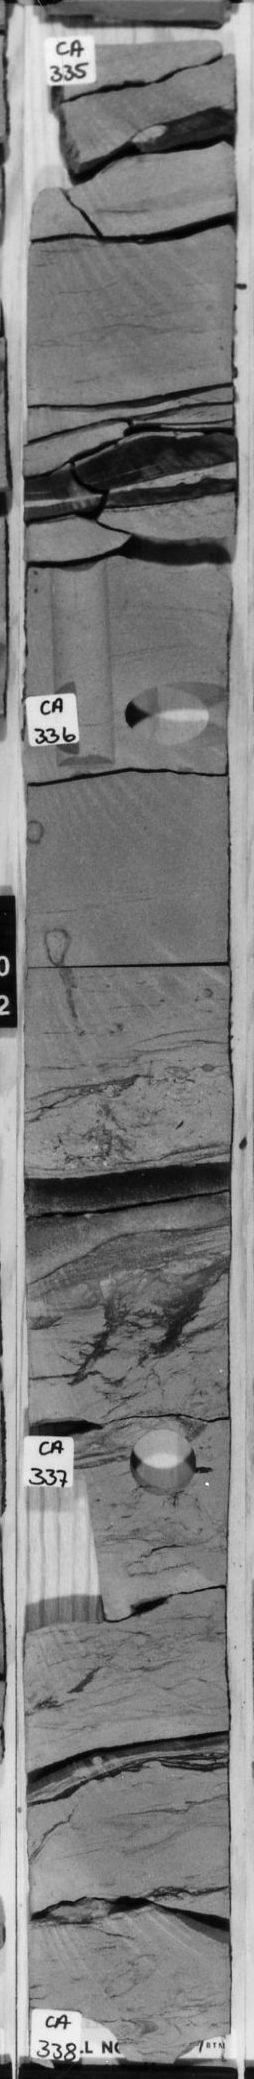hplug: (122, 678, 222, 754), (49, 5, 226, 48), (122, 1420, 198, 1496), (30, 2006, 132, 2056), (168, 2022, 228, 2063)
vplug: (44, 564, 123, 770), (25, 1458, 112, 1633), (36, 80, 94, 204)
